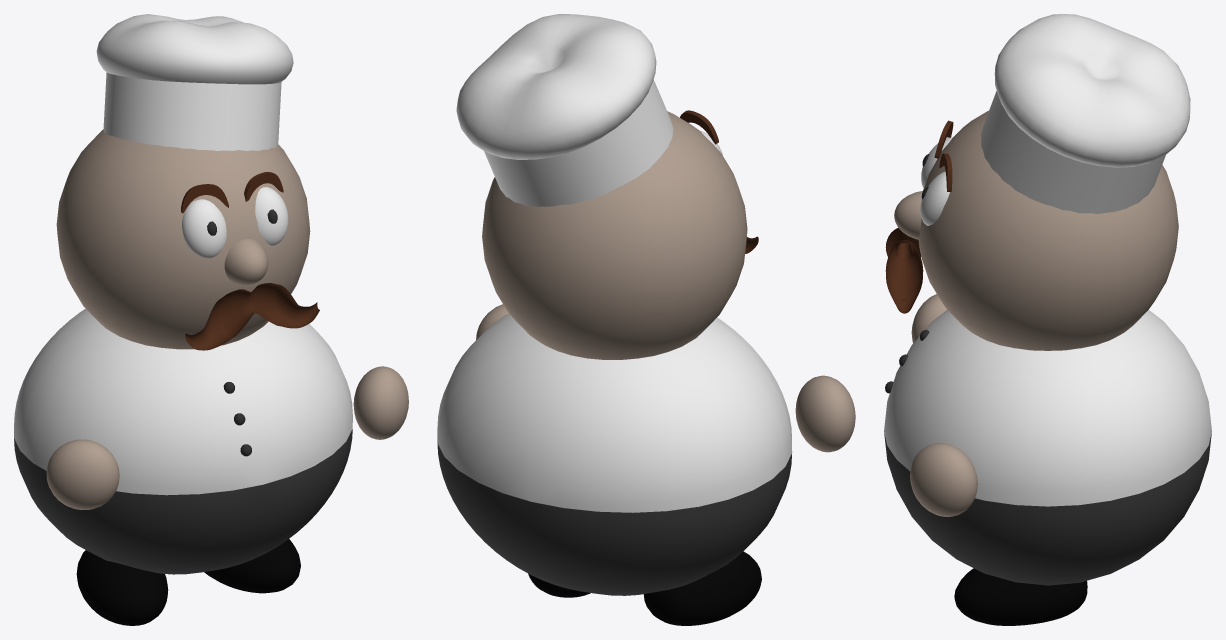
File: NewChef.fbx
3 views of the same model, side by side, from view 1: azimuth 30°, elevation 25°; view 2: azimuth 150°, elevation 25°; view 3: azimuth 270°, elevation 25° (orthographic). The views are drawn at different scales.
Visible parts, largest first — view 1: Bottom, Head, Top, nurbsCylinder1, nurbsSphere3, RightShoe, RightHand, LeftHand, LeftShoe, loftedSurface2, loftedSurface1, nurbsSphere5 (+3 smaller); view 2: Bottom, Head, Top, nurbsSphere3, nurbsCylinder1, RightShoe, RightHand; view 3: Bottom, Head, nurbsSphere3, Top, nurbsCylinder1, LeftShoe, LeftHand, loftedSurface1, Nose, nurbsSphere6, RightHand, loftedSurface2.
Boxes of the visible parts, x1,y1,x2,y2 form: Bottom: [14, 308, 352, 495]; Head: [56, 129, 310, 349]; Top: [14, 429, 352, 574]; nurbsCylinder1: [103, 72, 281, 150]; nurbsSphere3: [96, 14, 293, 84]; RightShoe: [76, 550, 168, 625]; RightHand: [46, 439, 119, 509]; LeftHand: [353, 366, 408, 439]; LeftShoe: [204, 539, 300, 593]; loftedSurface2: [185, 289, 254, 350]; loftedSurface1: [248, 283, 319, 328]; nurbsSphere5: [182, 199, 226, 258]; Bottom: [437, 313, 792, 512]; Head: [482, 111, 747, 359]; Top: [437, 443, 791, 595]; nurbsSphere3: [456, 14, 656, 159]; nurbsCylinder1: [484, 79, 673, 206]; RightShoe: [643, 551, 761, 625]; RightHand: [795, 375, 855, 452]; Bottom: [884, 310, 1211, 506]; Head: [918, 110, 1178, 350]; nurbsSphere3: [994, 14, 1190, 167]; Top: [884, 433, 1211, 585]; nurbsCylinder1: [981, 91, 1165, 213]; LeftShoe: [954, 568, 1087, 625]; LeftHand: [910, 443, 977, 516]; loftedSurface1: [885, 240, 923, 313]; Nose: [894, 191, 922, 239]; nurbsSphere6: [920, 171, 949, 225]; RightHand: [911, 294, 946, 343]; loftedSurface2: [885, 227, 921, 260].
Bounding box in the file's own units: 283 × 422 × 220.
